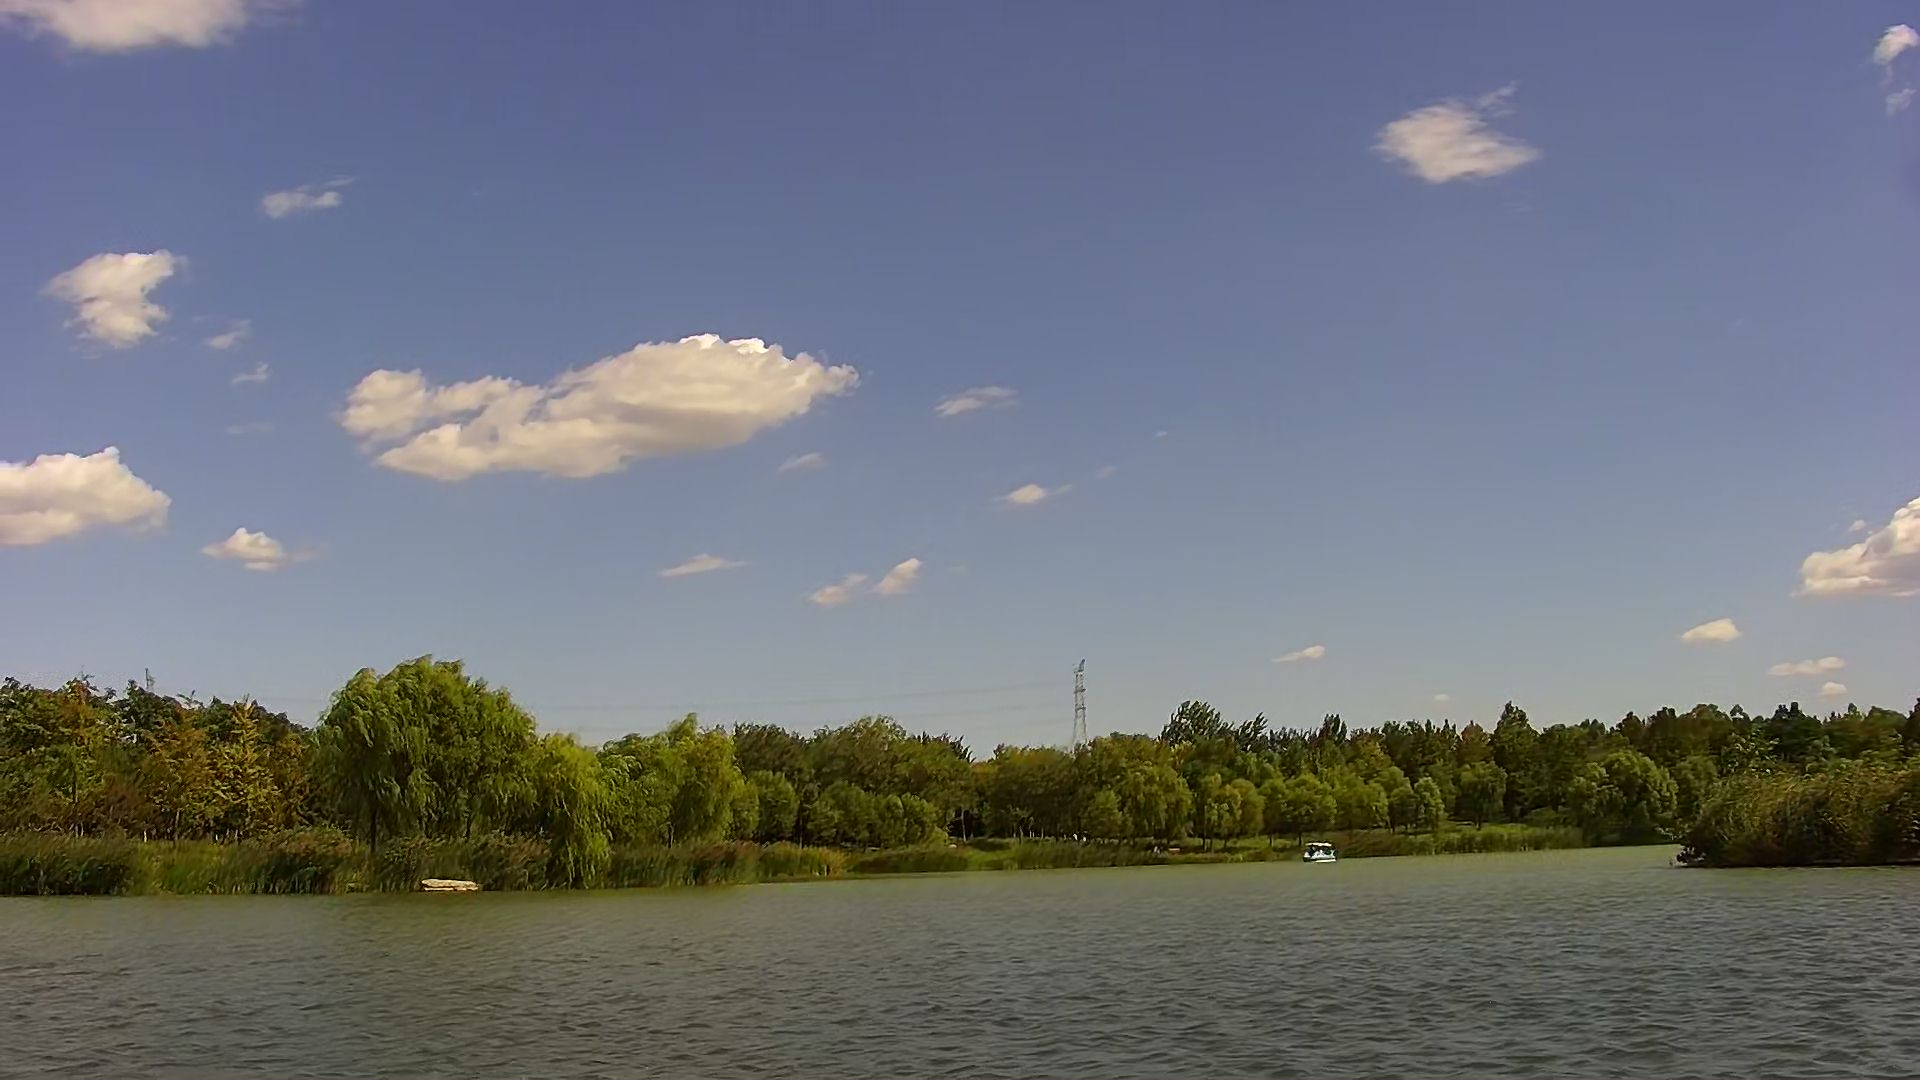boat: (1298, 840, 1338, 868)
